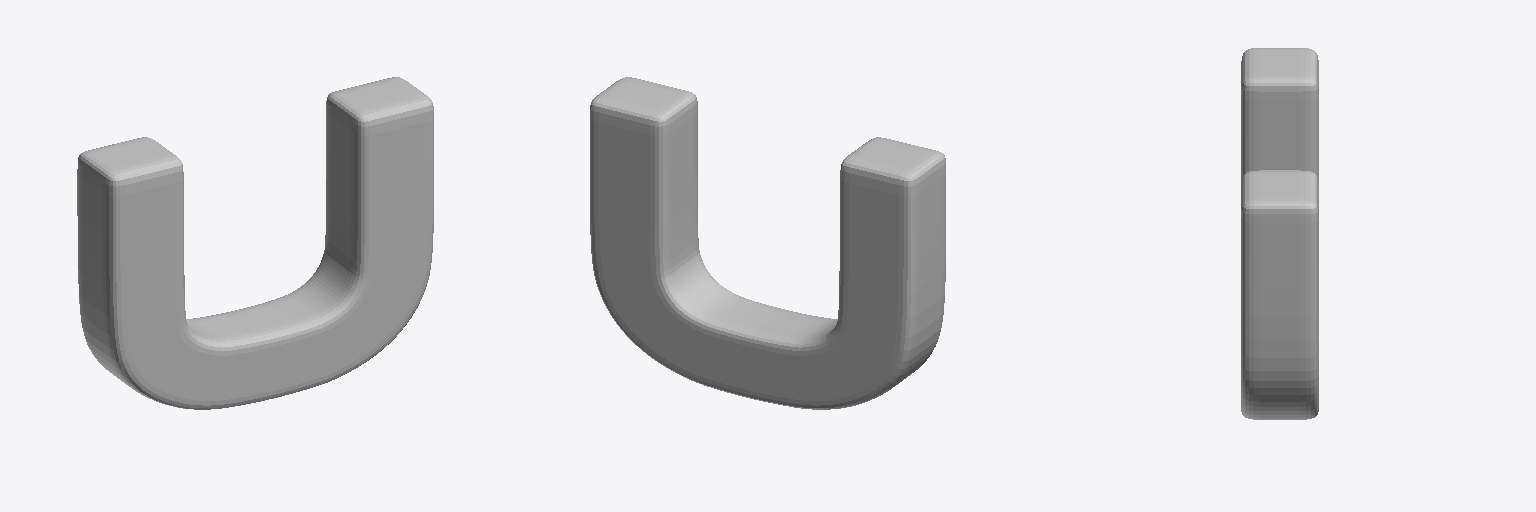
3 views of the same model, side by side, from view 1: azimuth 30°, elevation 25°; view 2: azimuth 150°, elevation 25°; view 3: azimuth 270°, elevation 25° (orthographic).
Parts seen in each view (by area): view 1: polySurface6 text2FixedOneObjectNewNoHistory:pasted__T1; view 2: polySurface6 text2FixedOneObjectNewNoHistory:pasted__T1; view 3: polySurface6 text2FixedOneObjectNewNoHistory:pasted__T1.
Part boxes in pixels (bbox=[...]): polySurface6 text2FixedOneObjectNewNoHistory:pasted__T1: bbox=[77, 77, 433, 409]; polySurface6 text2FixedOneObjectNewNoHistory:pasted__T1: bbox=[590, 77, 945, 409]; polySurface6 text2FixedOneObjectNewNoHistory:pasted__T1: bbox=[1241, 48, 1318, 419].
Bounding box in the file's own units: 822 × 634 × 170.